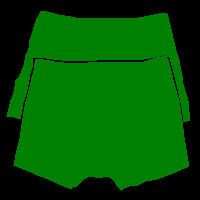mutande: (13, 55, 189, 191), (6, 10, 190, 122)
